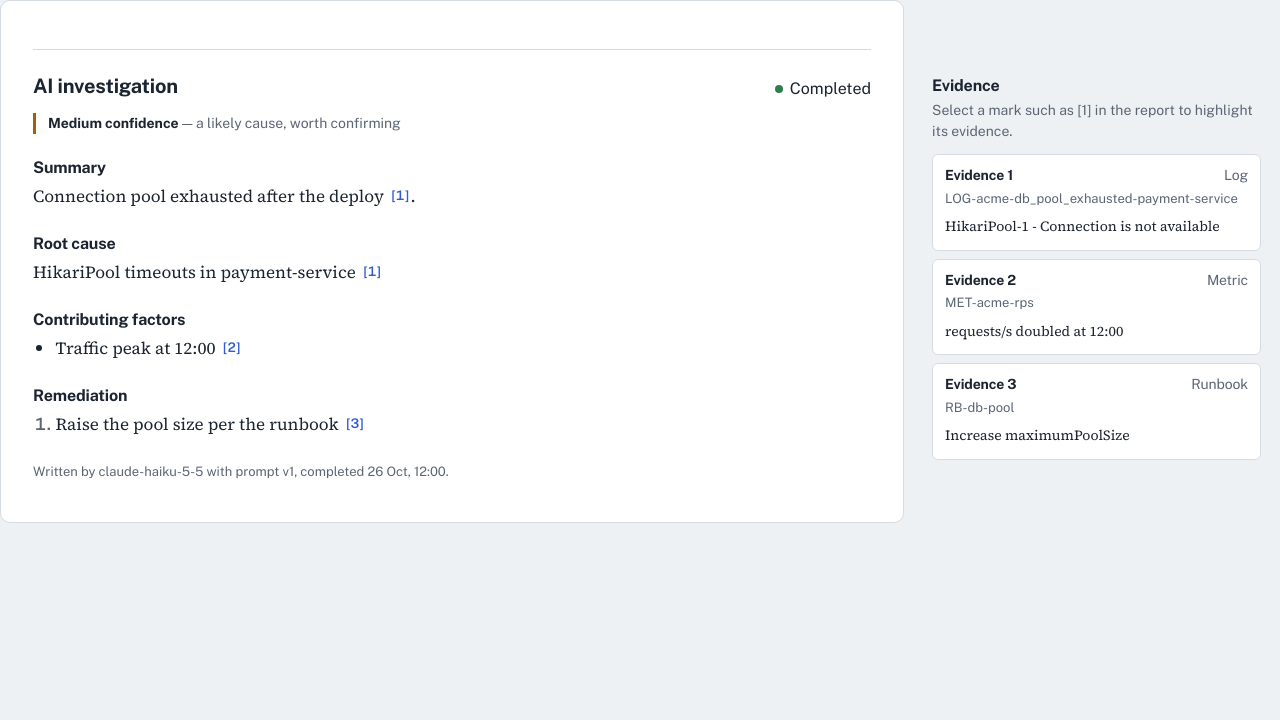
Test: bottom sheet on a narrow screen › opens the evidence in a focus-trapped sheet; Esc closes it and returns focus to the mark
The image size is (1280, 720).
Click the button named "Evidence 3" at (355, 424), box [345,417,365,430]
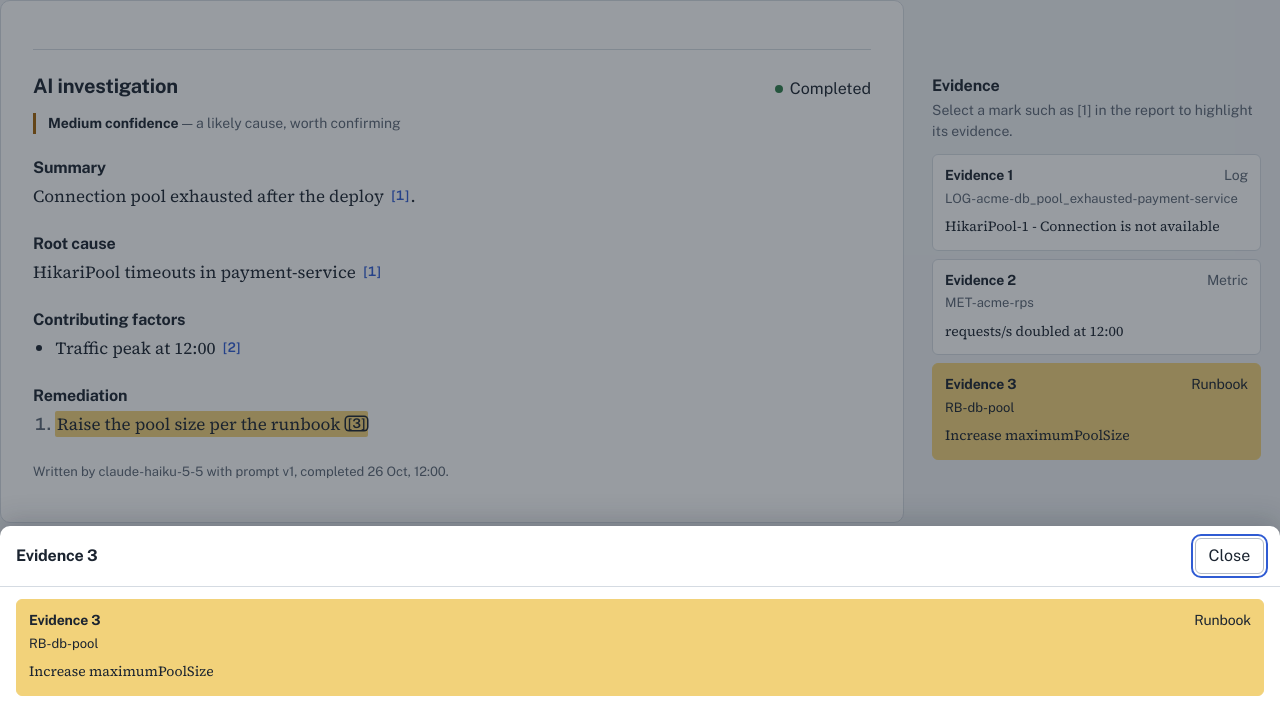
Now the dialog "Evidence 3" shows "RB-db-pool", box [29,636,98,651]
Now the dialog "Evidence 3" shows "Increase maximumPoolSize", box [29,661,214,681]
Press Tab
Press Shift+Tab
Press Escape
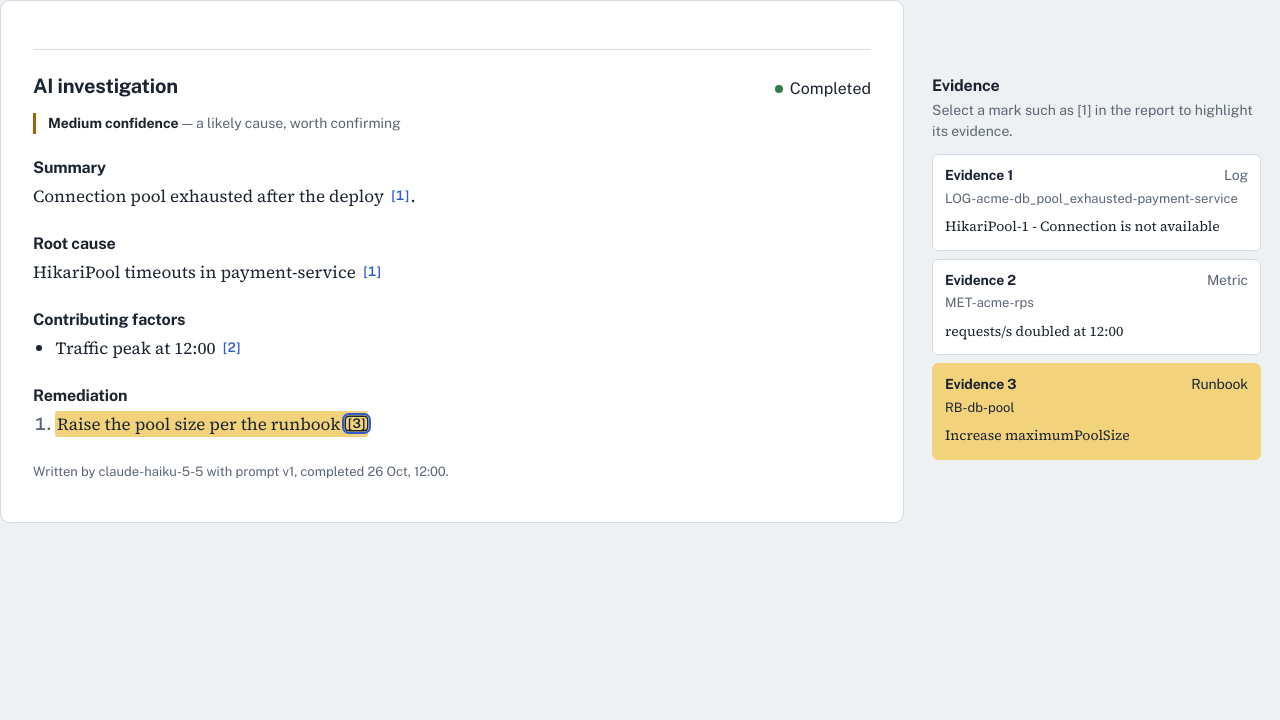
Now the dialog is gone
